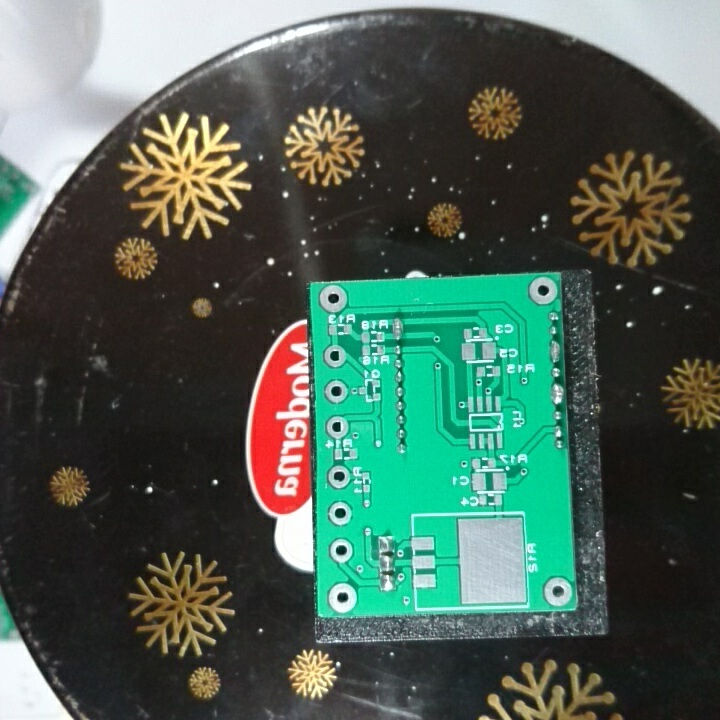F: (325, 580, 360, 614), (541, 572, 575, 607), (316, 282, 351, 314), (526, 277, 558, 308), (326, 498, 356, 529), (326, 535, 357, 564), (325, 462, 352, 491), (322, 377, 349, 405), (323, 415, 352, 440), (322, 343, 349, 369)
P: (391, 314, 407, 343), (549, 380, 565, 406), (548, 340, 562, 363)
